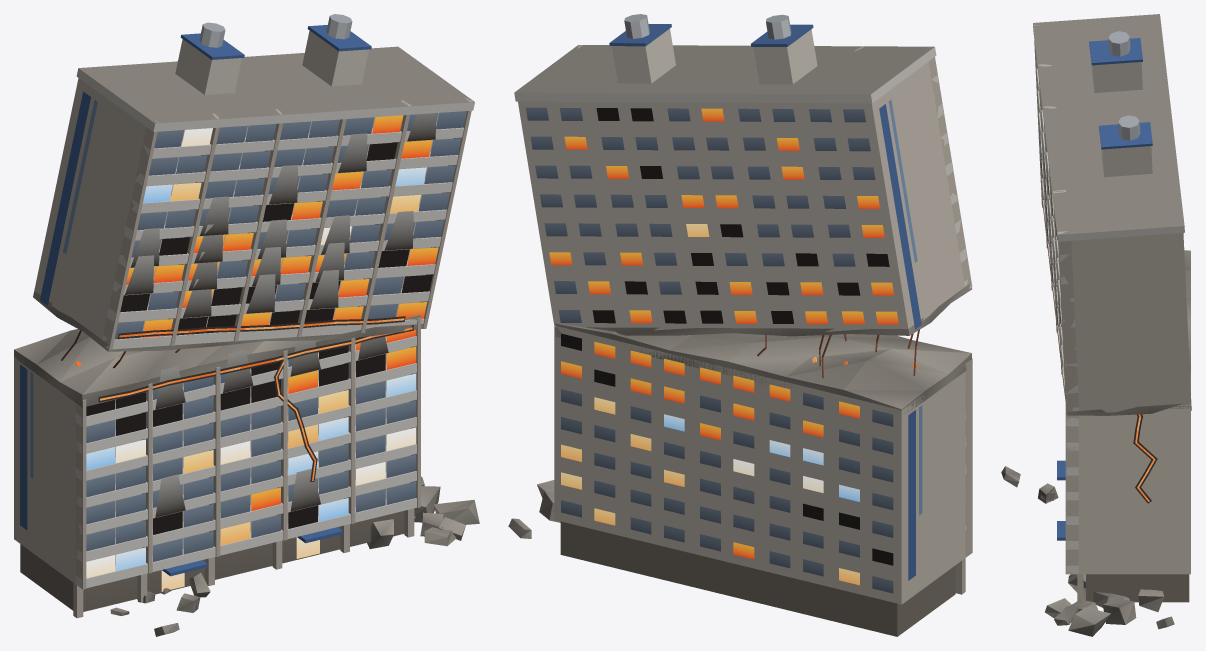
The model's file is bld_apt_A_collapsed.meshopt.glb.
3 views of the same model, side by side, from view 1: azimuth 30°, elevation 25°; view 2: azimuth 150°, elevation 25°; view 3: azimuth 270°, elevation 25° (orthographic). The views are drawn at different scales.
Visible parts, largest first — view 1: bld_apt_A_collapsed; view 2: bld_apt_A_collapsed; view 3: bld_apt_A_collapsed.
Boxes of the visible parts, x1,y1,x2,y2 form: bld_apt_A_collapsed: (14, 14, 479, 636); bld_apt_A_collapsed: (508, 14, 972, 636); bld_apt_A_collapsed: (1001, 14, 1191, 636).
Bounding box in the file's own units: 45.86 × 58.66 × 20.32.
